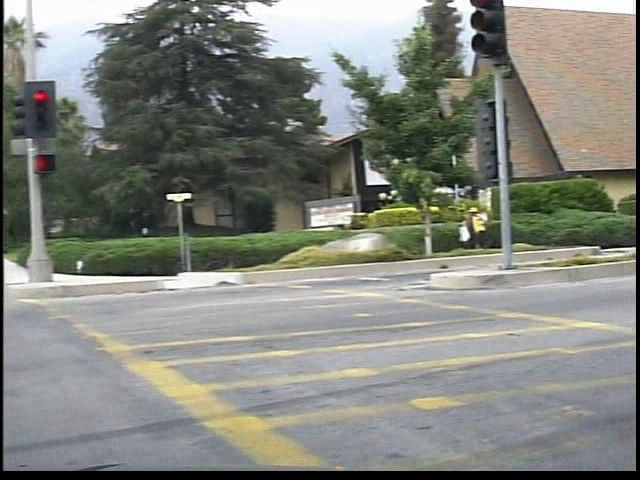person: (478, 198, 502, 253)
